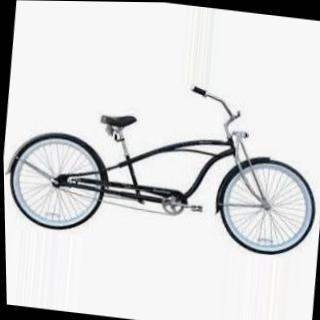Bike: (1, 63, 320, 262)
